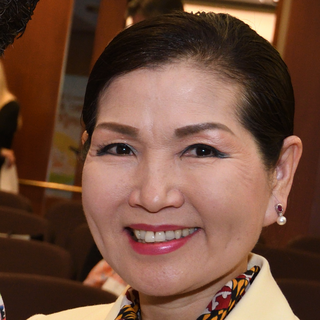eye: (176, 139, 228, 164), (95, 138, 142, 163)
